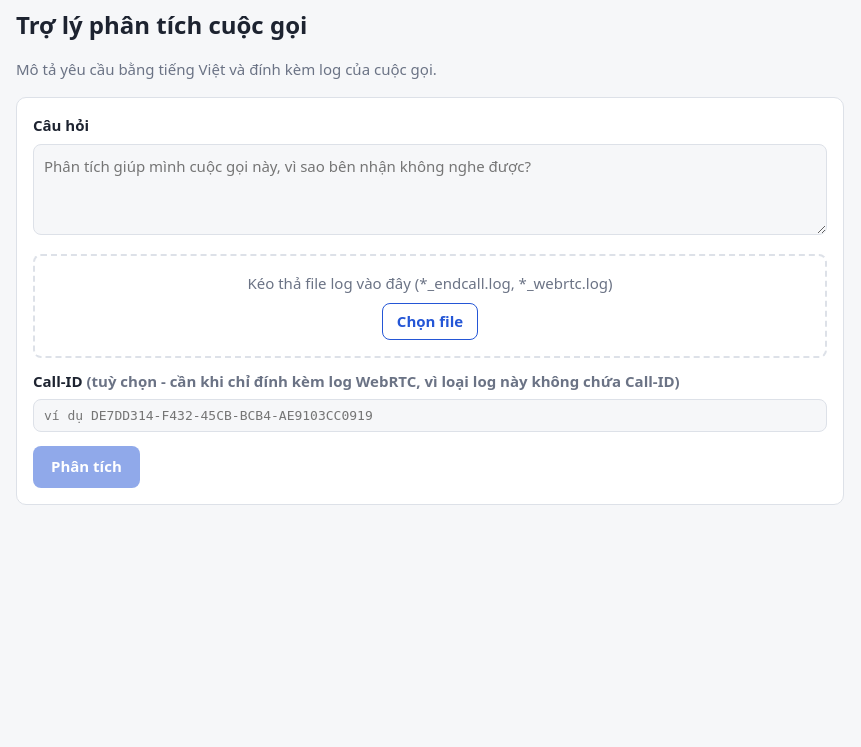
Test: App › flags the report for manual review when the AI disagreed with the rules
In the text box labelled "Câu hỏi": (430, 190) top-left (33, 144), bottom-right (827, 236), type "Phân tích"
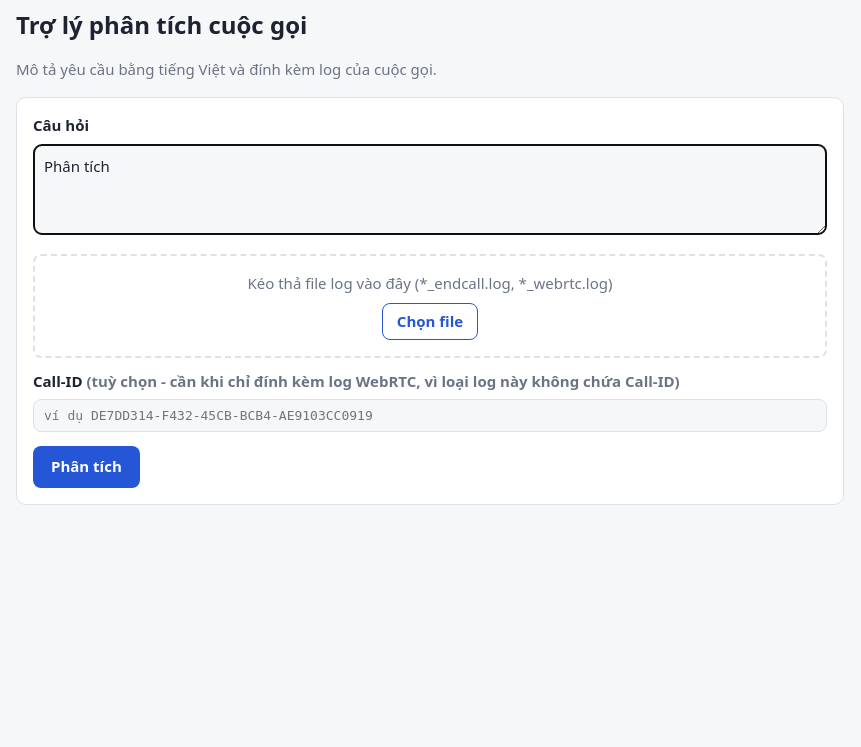
Click the button "Phân tích": (86, 467) top-left (33, 446), bottom-right (140, 488)
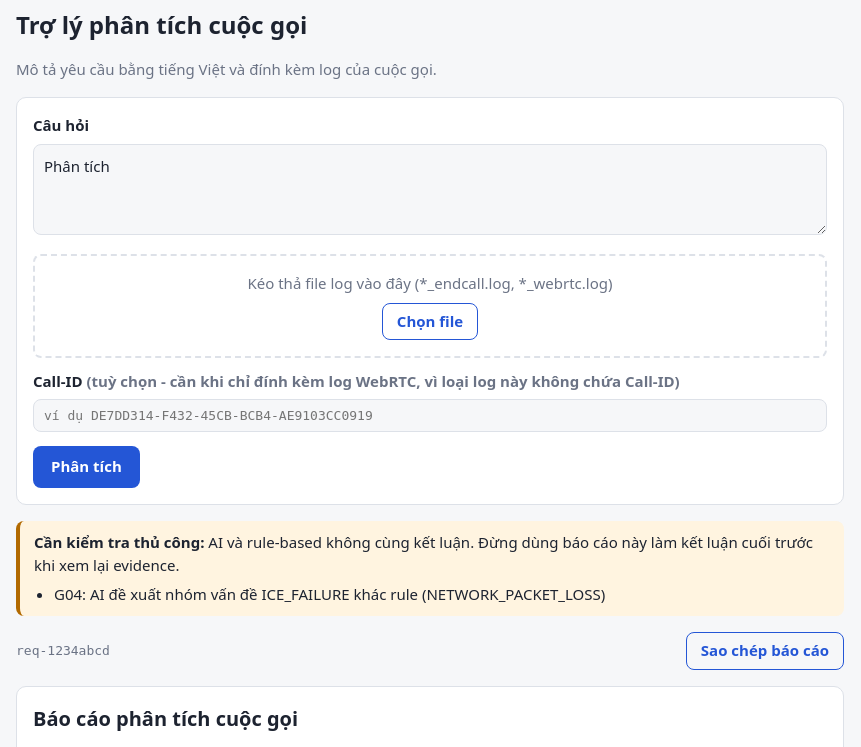
Check: the message shows "Cần kiểm tra thủ công", box top-left (34, 532), bottom-right (204, 552)
Check: the message shows "ICE_FAILURE khác rule", box top-left (54, 584), bottom-right (605, 604)
